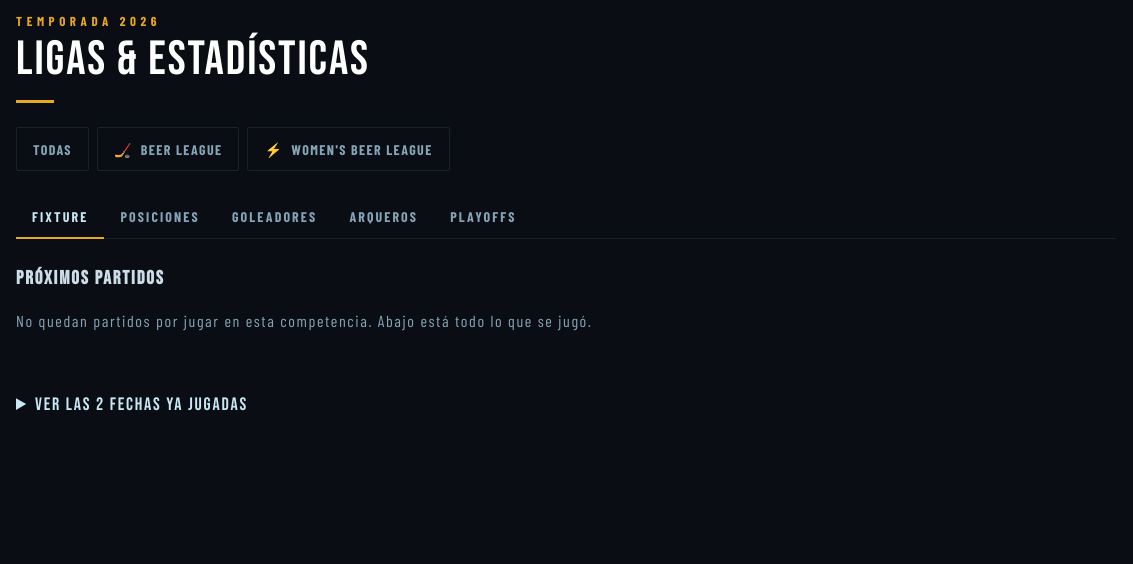
it: LeaguesSection › switches every table when the competition changes
Click the button "⚡ Women's Beer League": point(349, 149) [248,127,450,171]
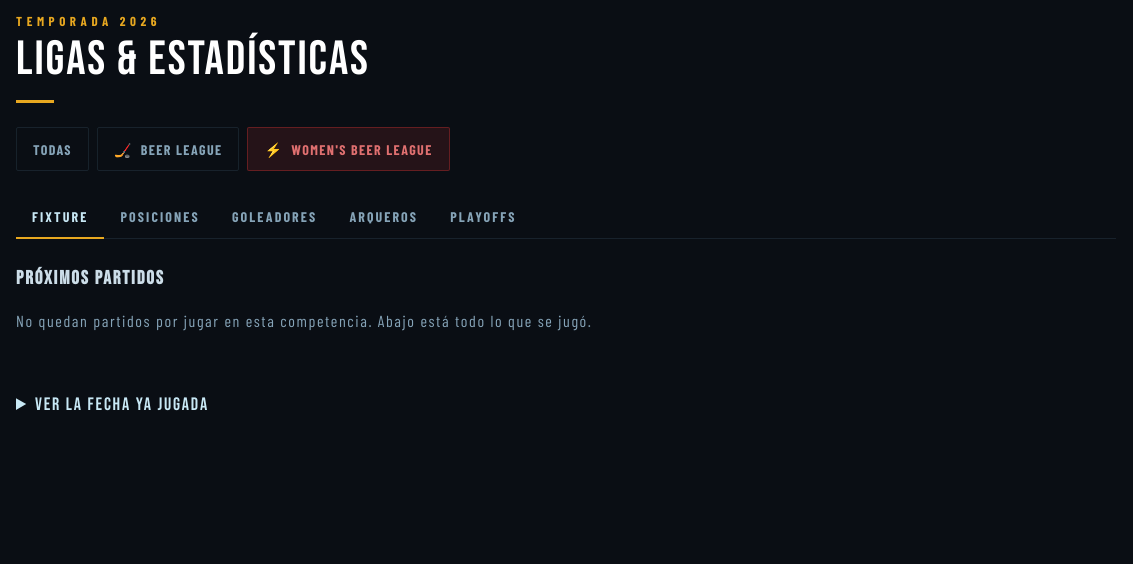
Click the tab "Posiciones": point(160, 217) [104,195,216,239]
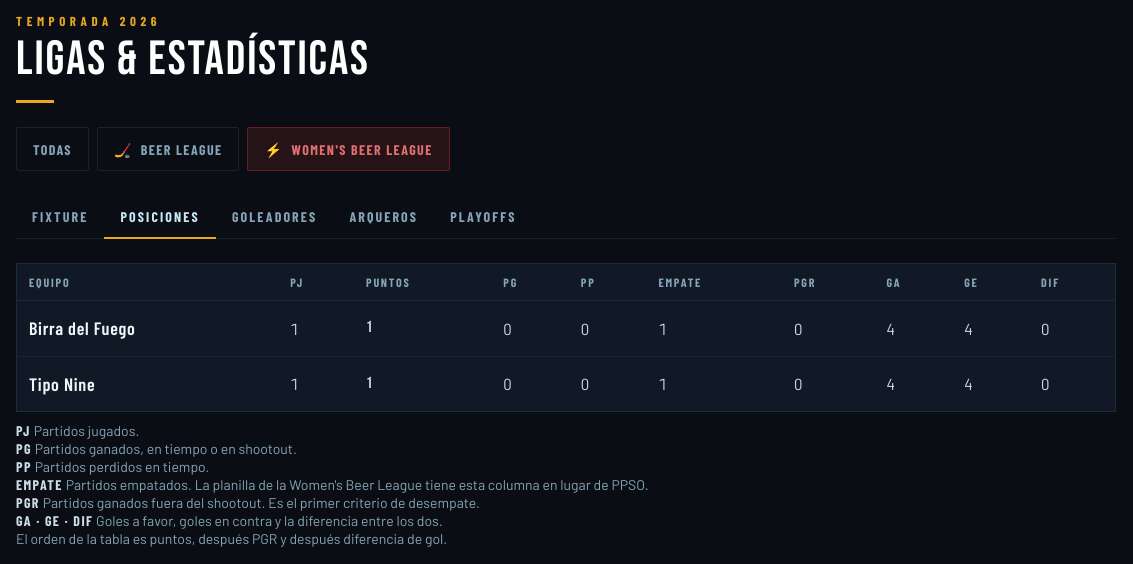
expect the column heading "empate" is shown: met, box [646,264,782,300]
Click the tab "Goleadores": point(275, 217) [216,195,333,239]
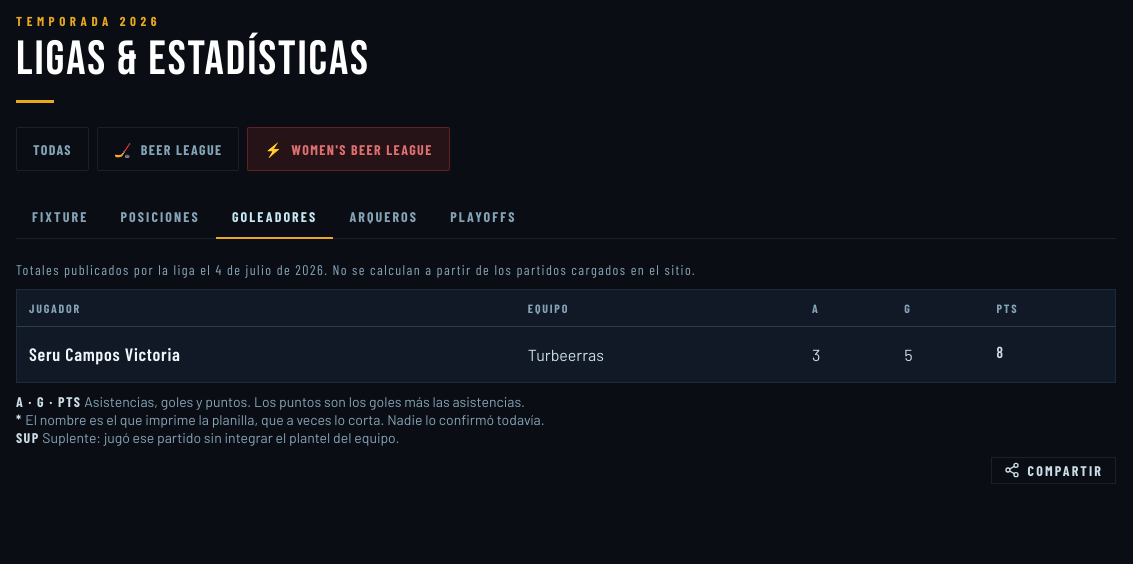
expect the column heading "Seru Campos Victoria" is shown: met, box [17,326,516,382]
Click the tab "Arqueros": point(384, 217) [333,195,434,239]
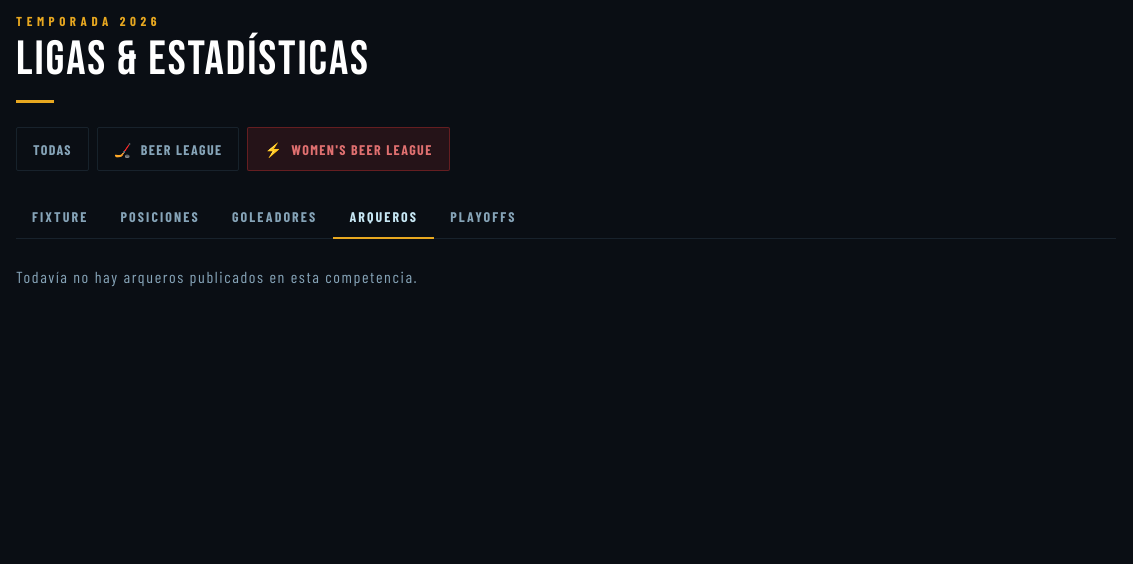
expect the text "Todavía no hay arqueros publicados en esta competencia." is shown: met, box [16,267,418,286]
